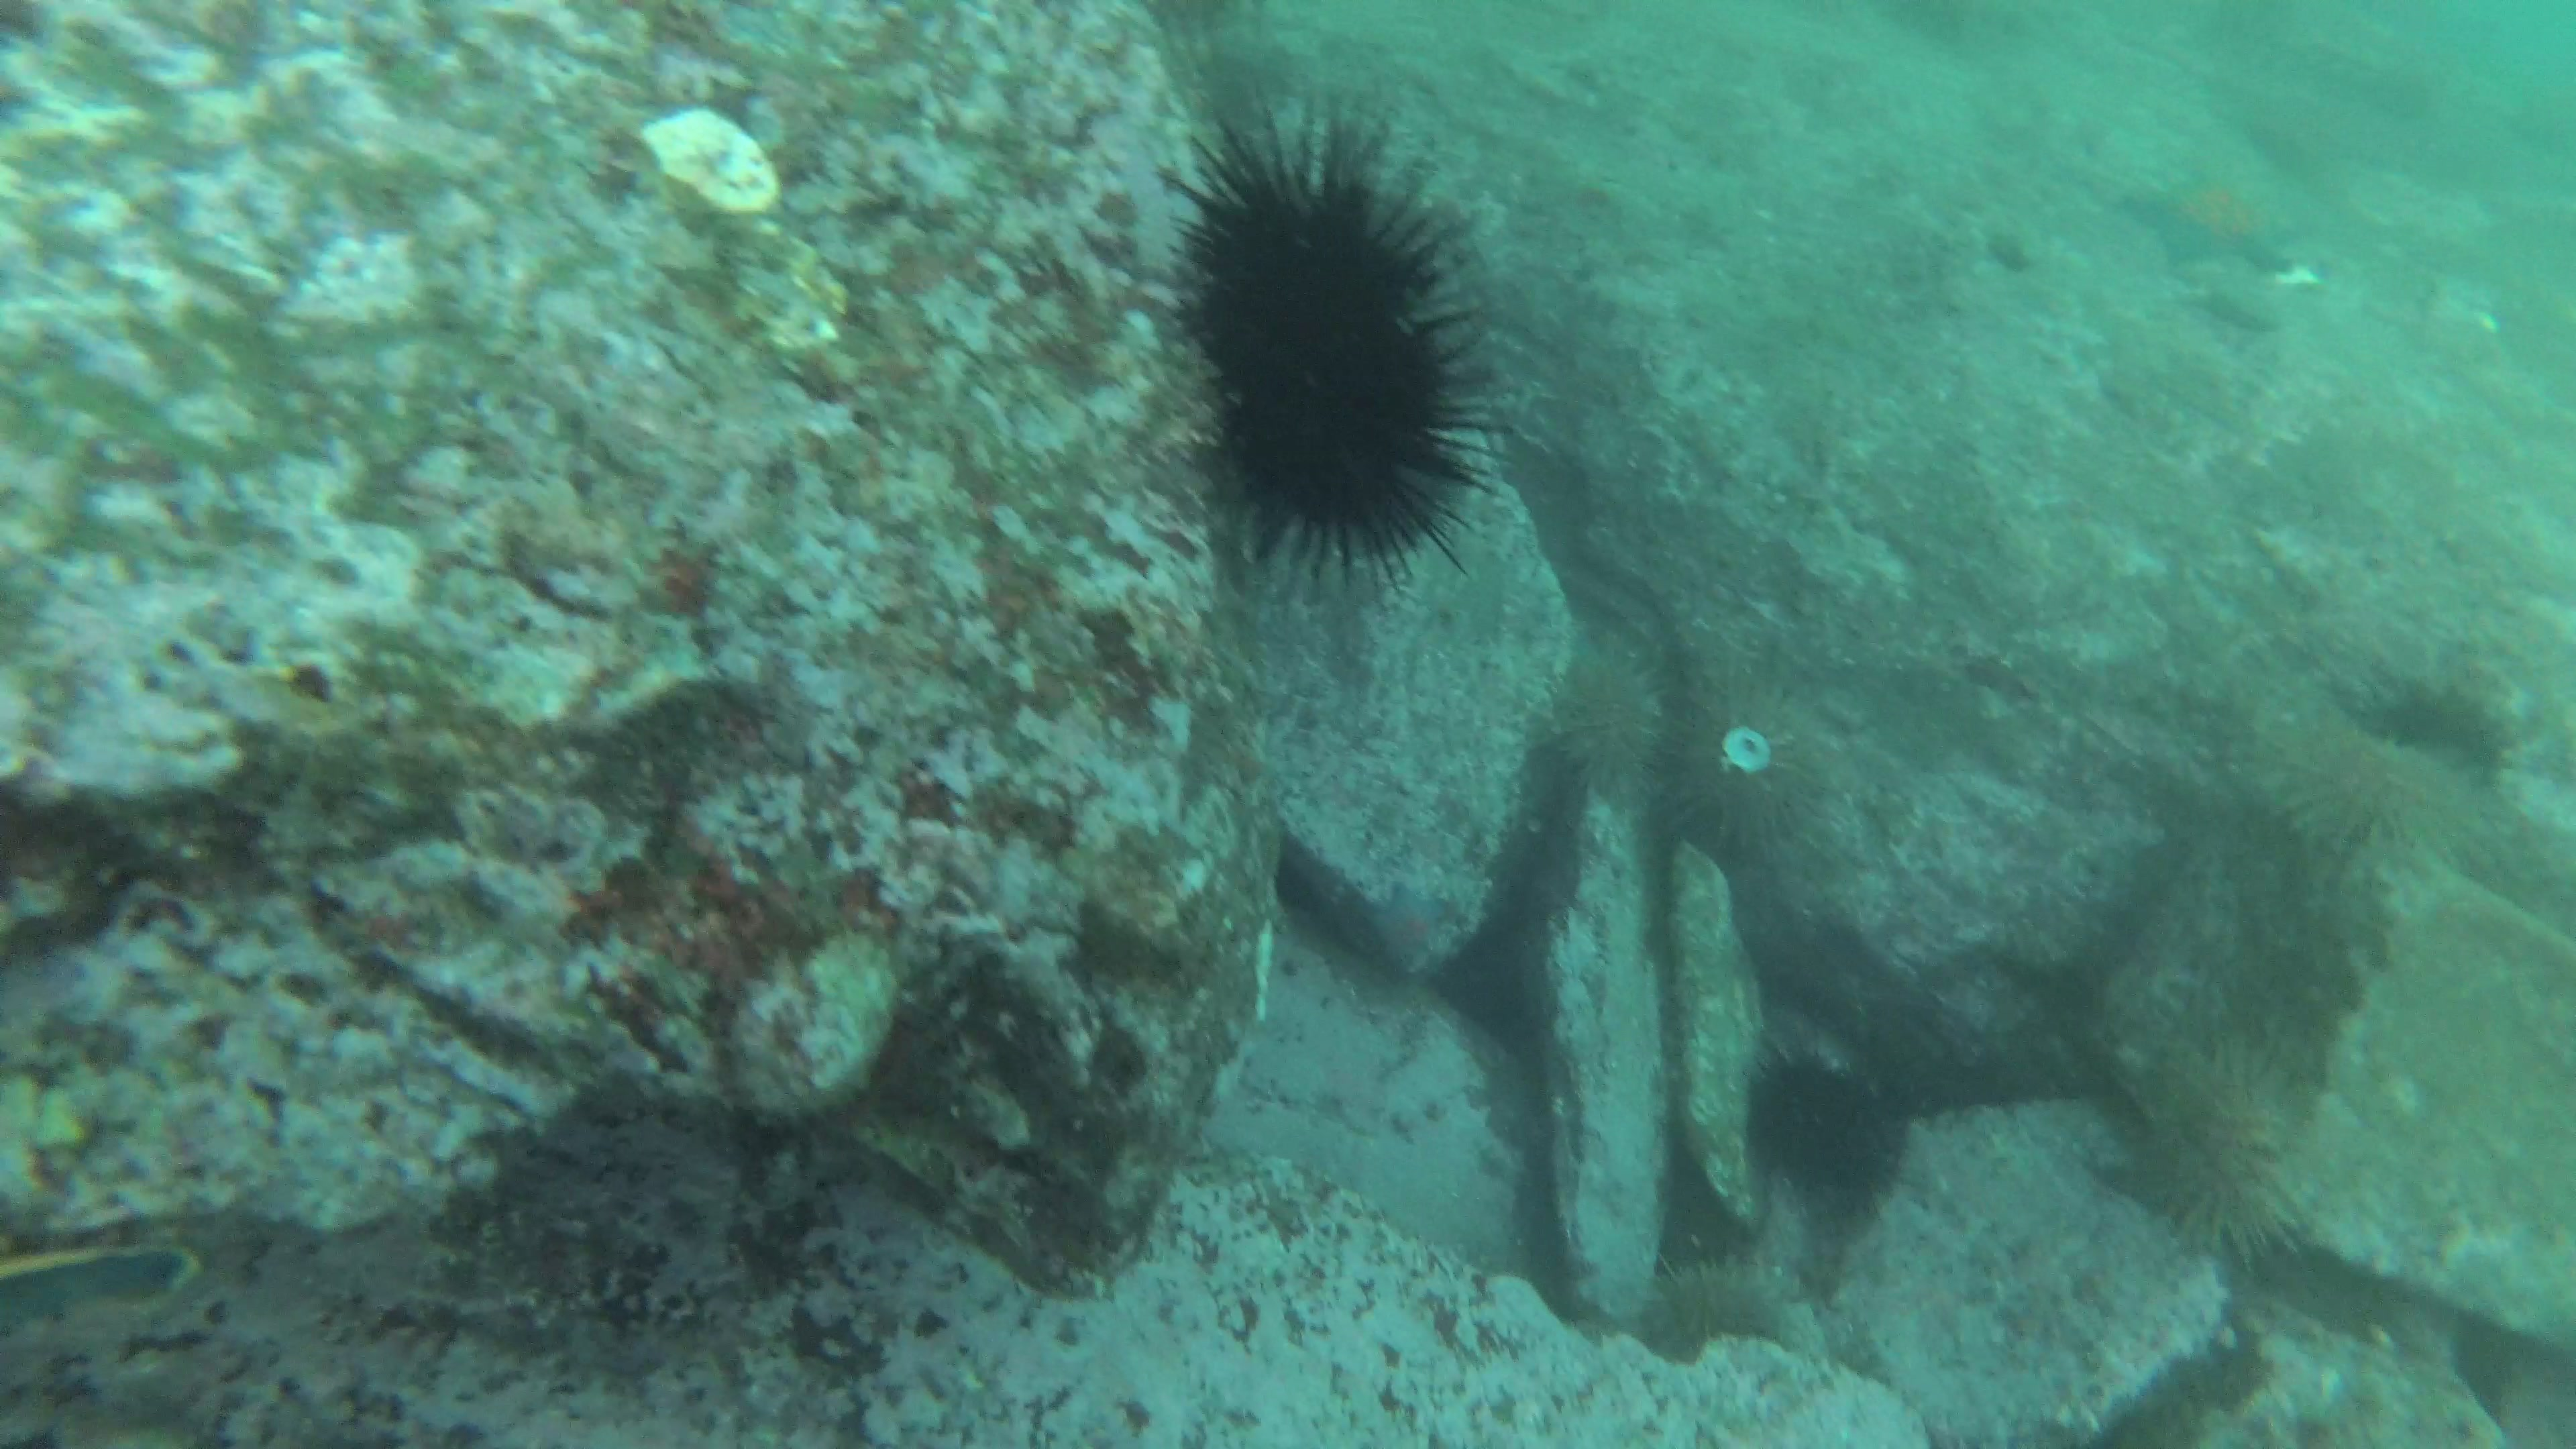echinus: (1146, 119, 1495, 582), (2118, 1035, 2302, 1261), (1654, 648, 1836, 856), (2259, 720, 2479, 869), (1736, 1035, 1907, 1200), (1555, 635, 1674, 800), (1645, 1237, 1801, 1359)
starfish: (2118, 157, 2321, 272)
